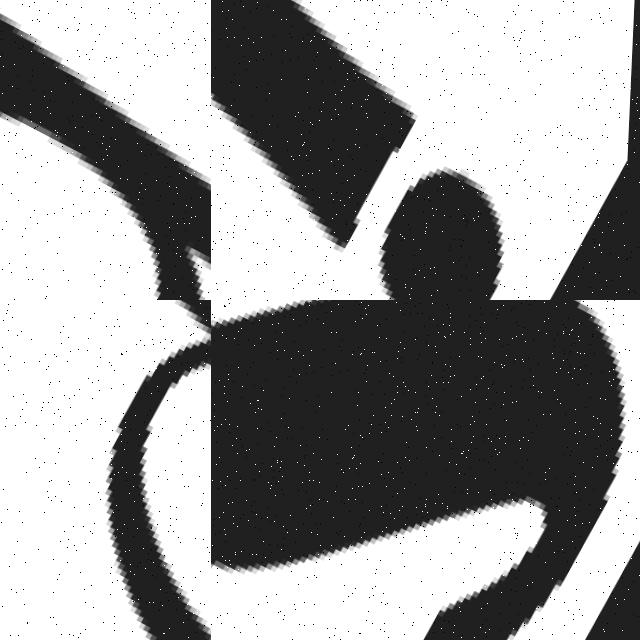B: (0, 8, 211, 300)
I: (211, 0, 628, 300)
P: (107, 300, 211, 640)
S: (211, 300, 640, 640)
